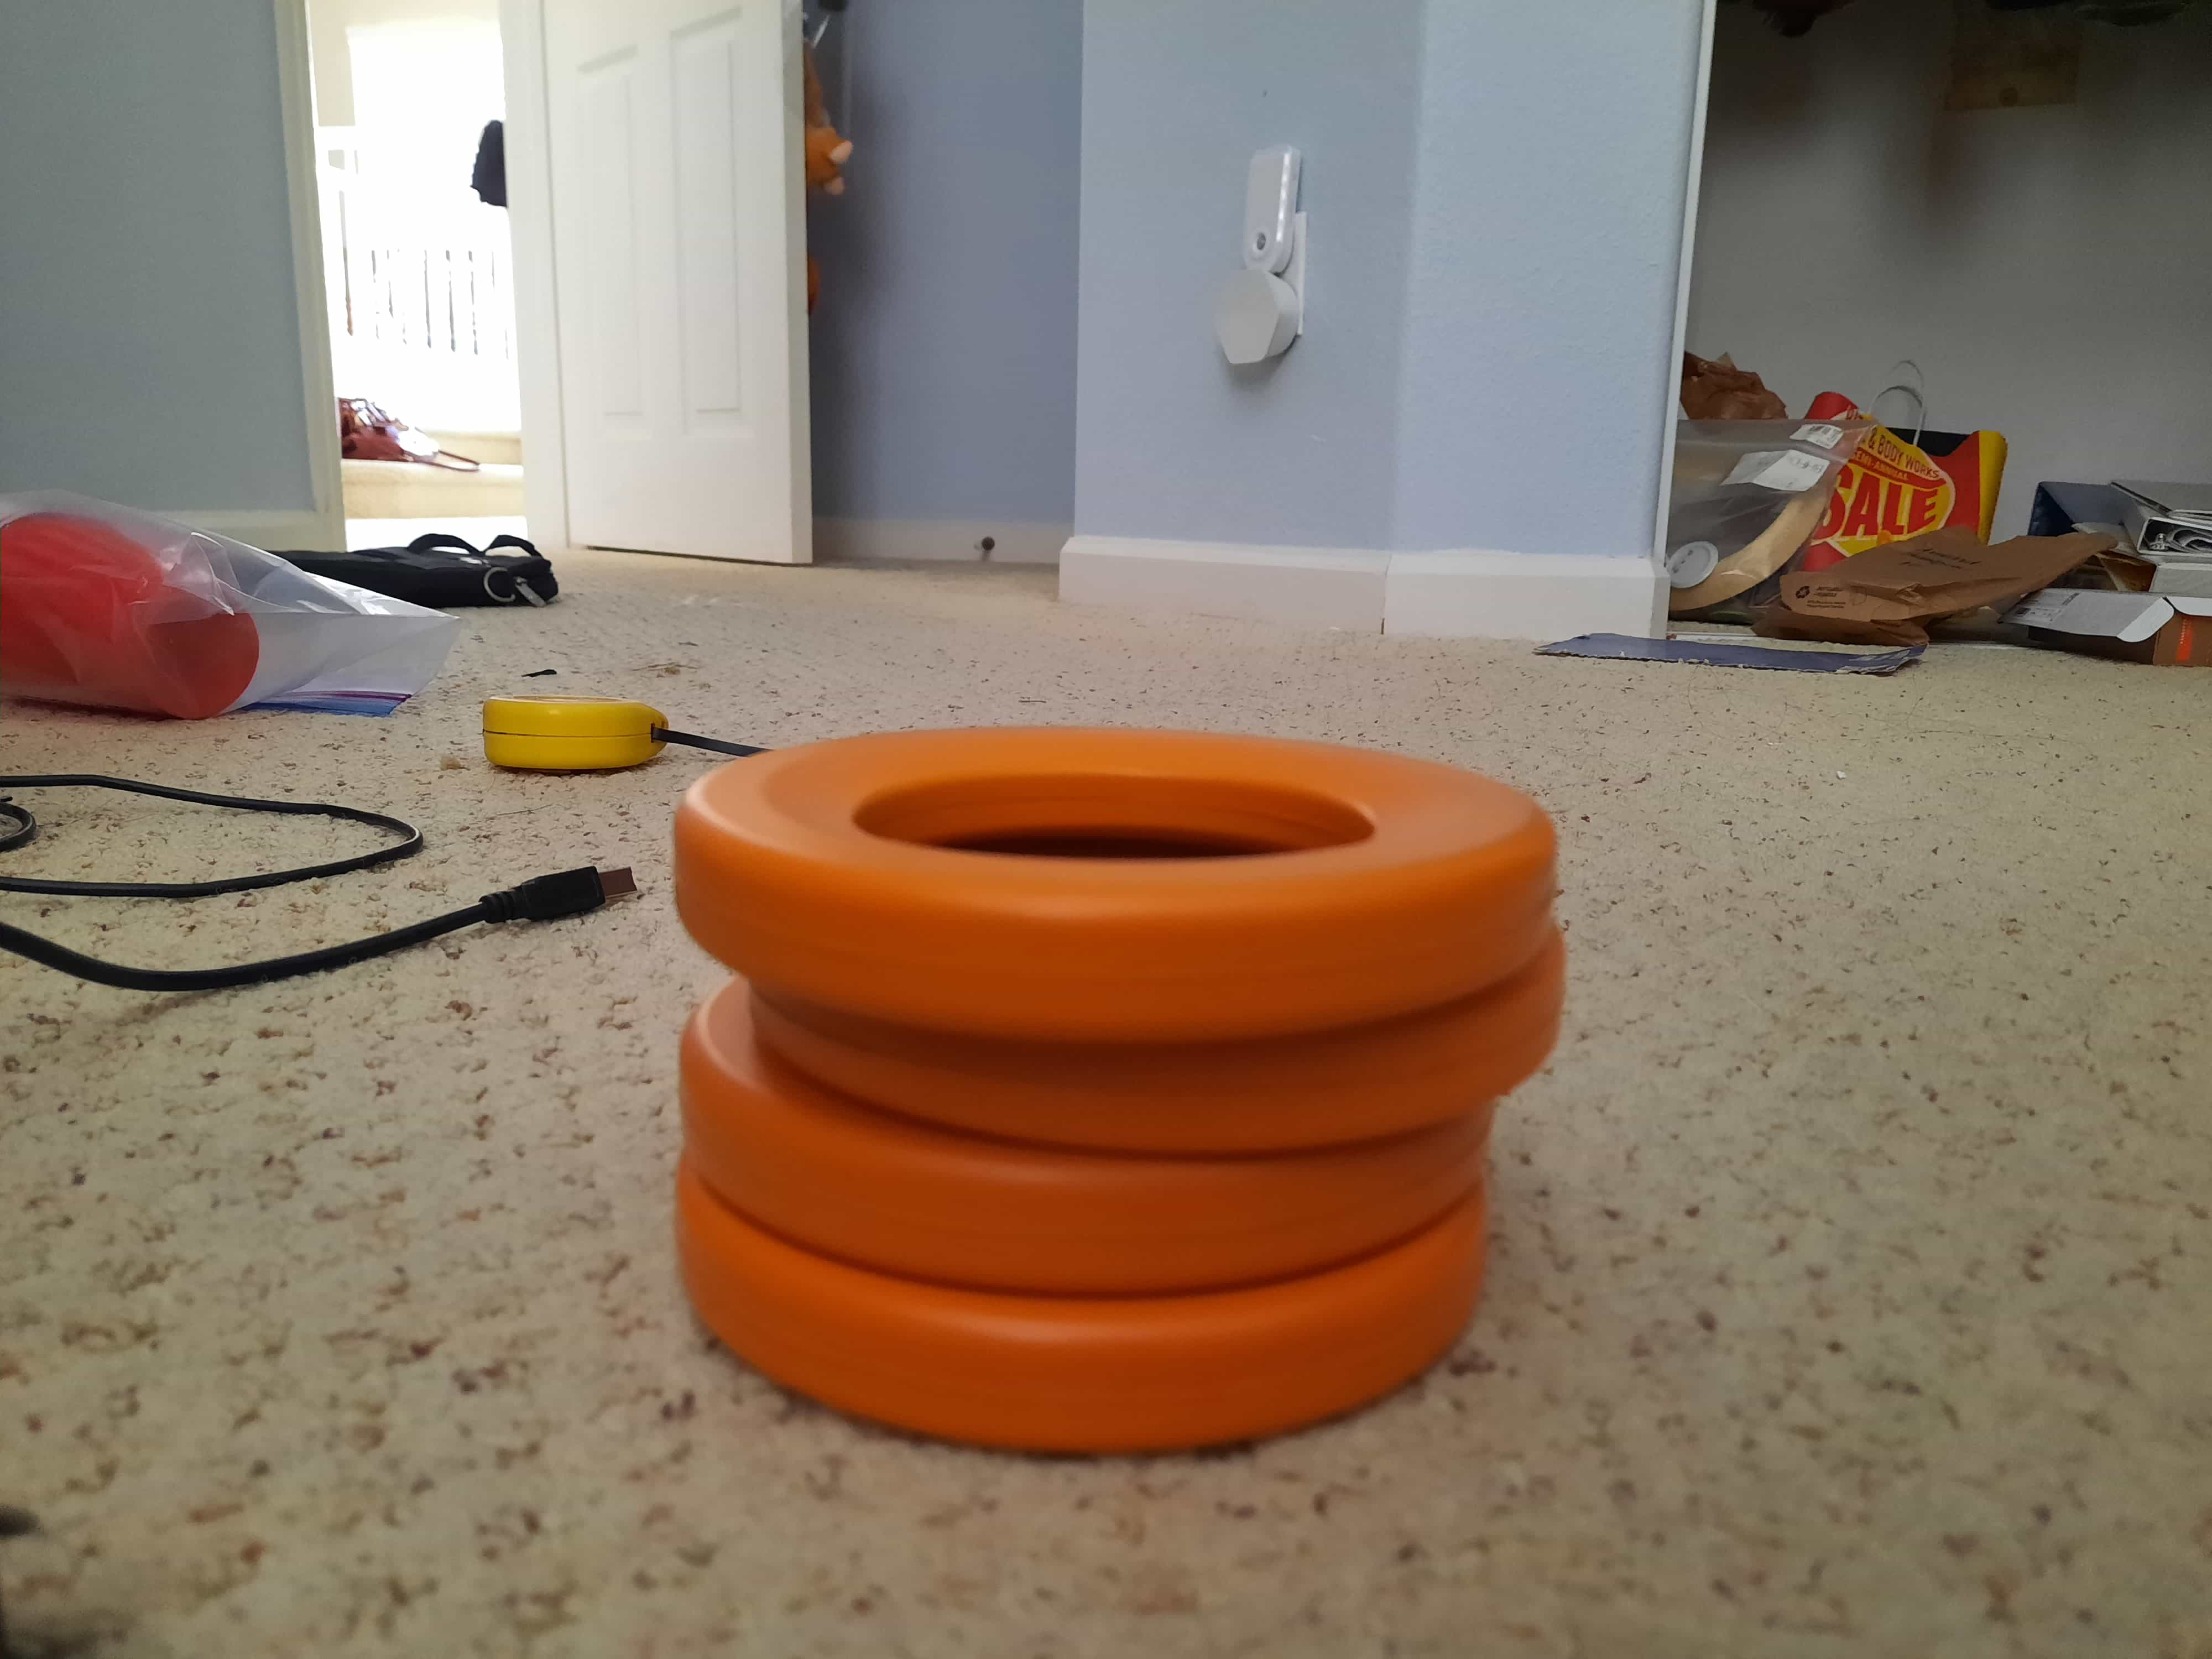FourStack: (664, 721, 1568, 1438)
